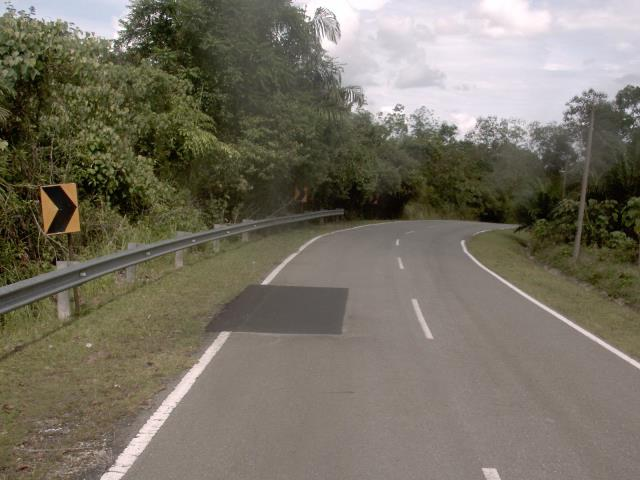traffic_sign: (34, 175, 87, 244)
